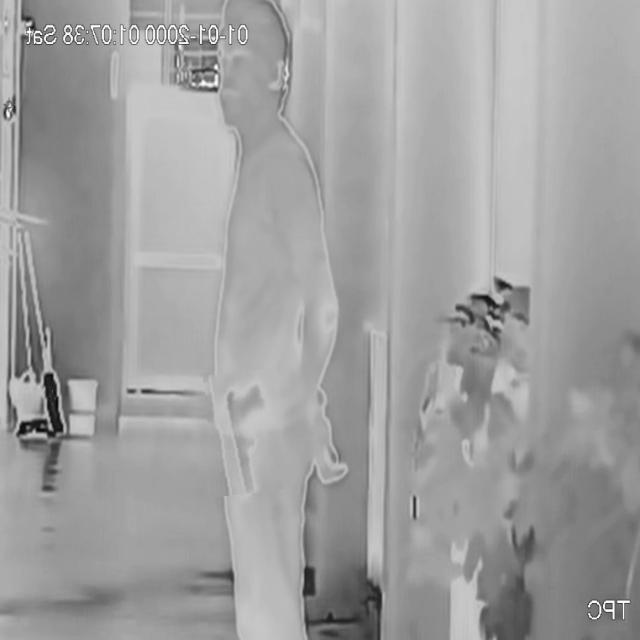Weapon: (206, 371, 282, 496)
